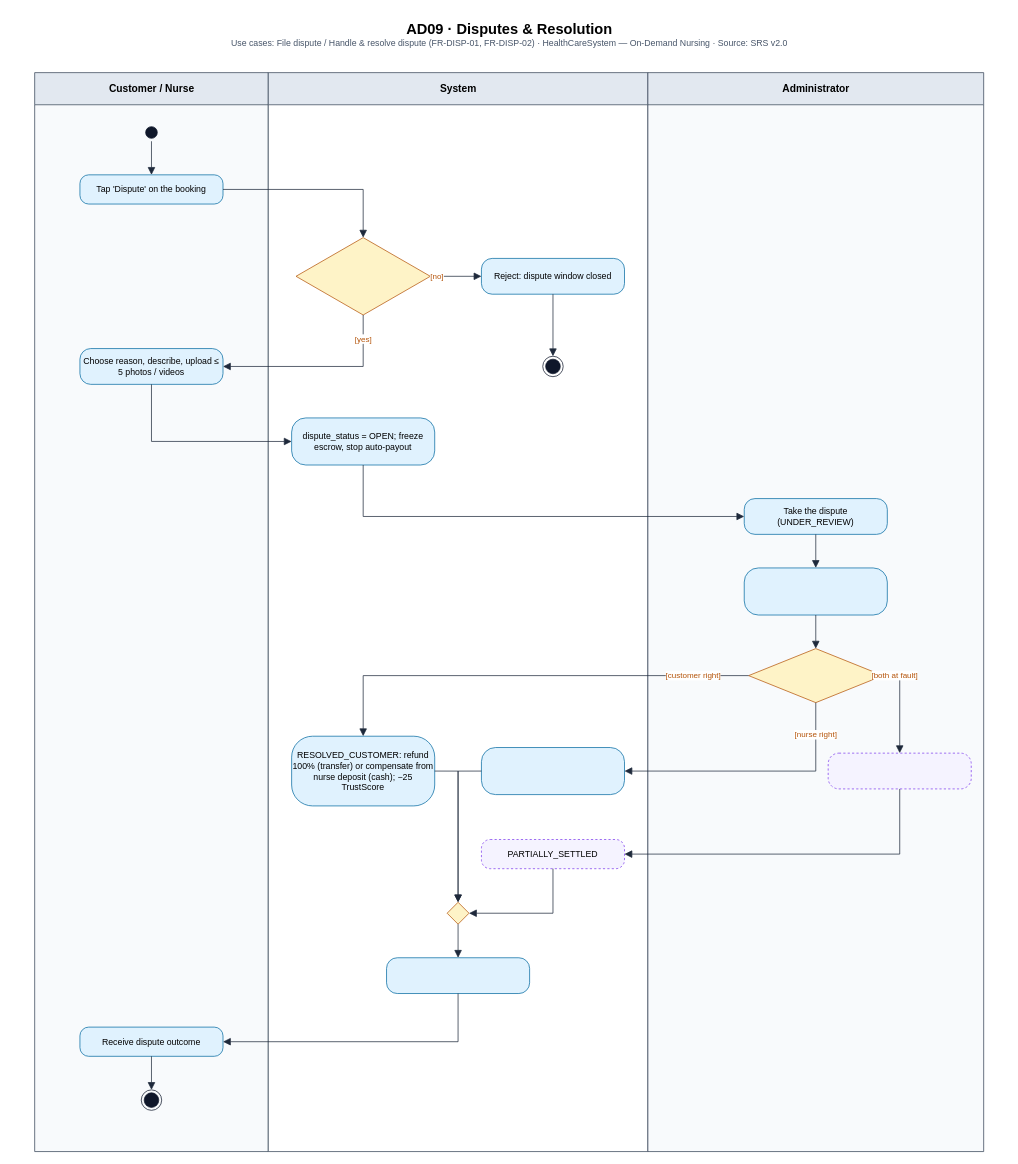
Image size: 1018x1164. Some labels were removed from this diagram. The centre of each missing label's shape, as x and y in pixels:
Between IN_PROGRESS and 24h after check-out?: point 362,276
Cross-check GPS log, check-in/out times, care log, chat & call history: point 815,591
Enter refund / payout split (Phase 2): point 899,770
RESOLVED_NURSE: release 100% of fee, booking SETTLED: point 553,771
Ruling?: point 815,675
Write audit log, notify both parties: point 458,975
